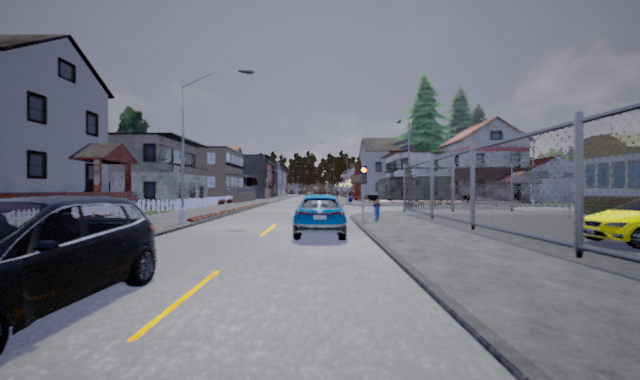pedestrian: (369, 196, 384, 222)
vehicle: (1, 194, 157, 364), (583, 193, 640, 249), (292, 195, 347, 242)
